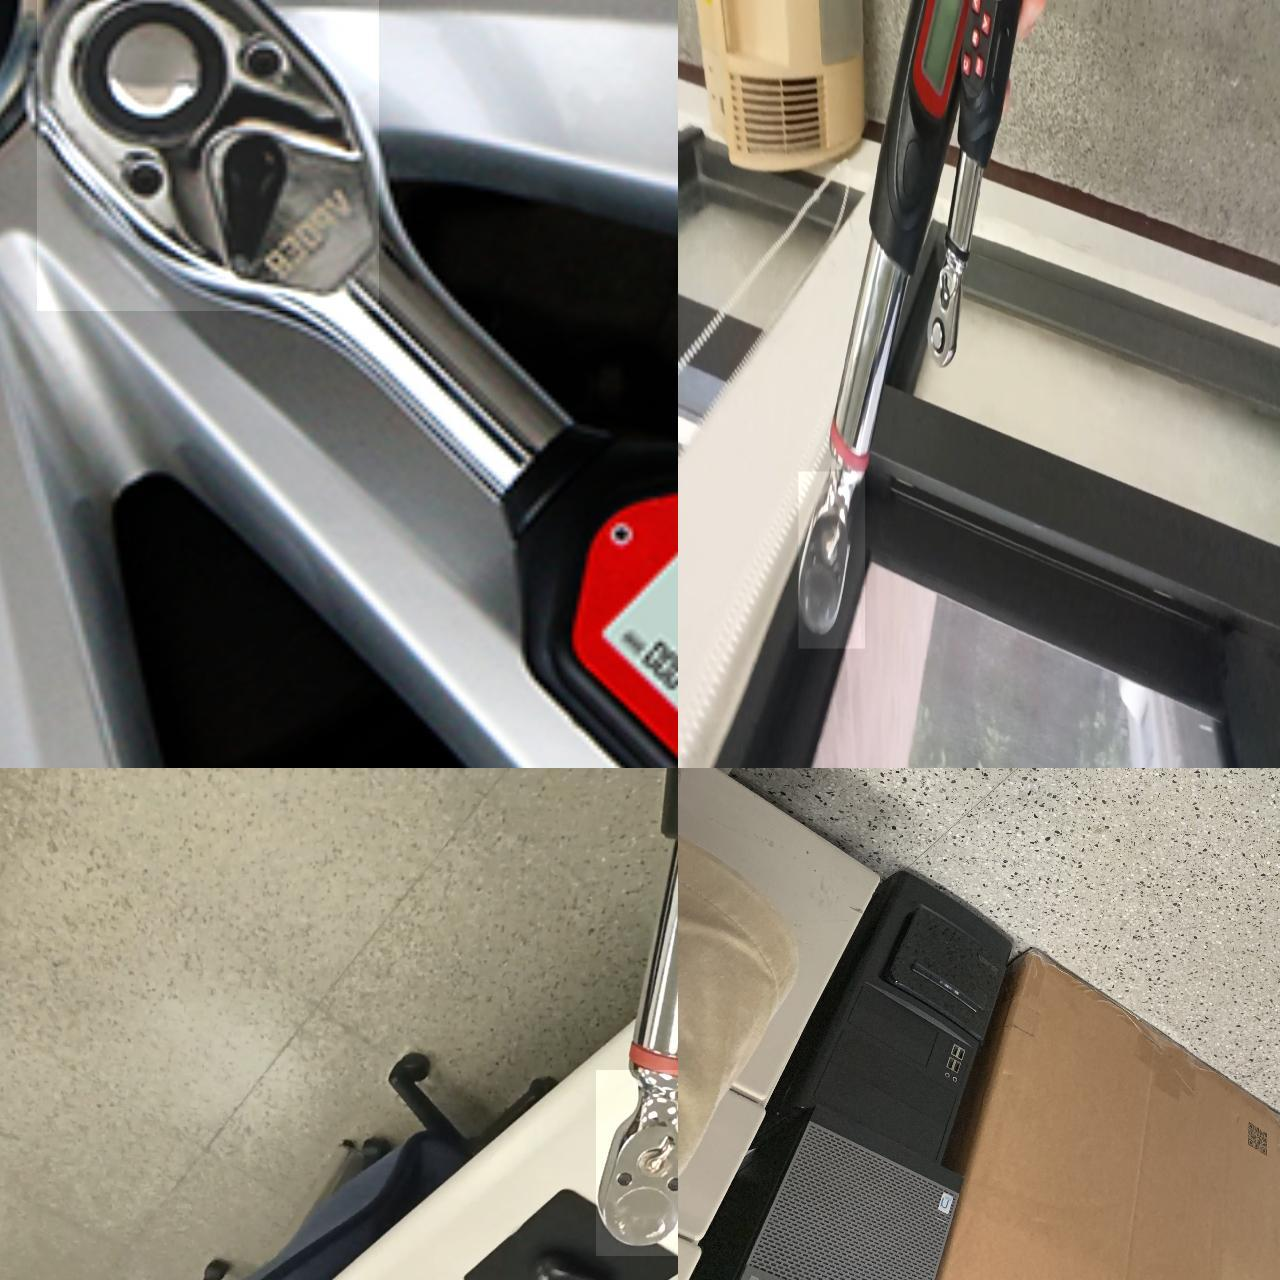Tool: (37, 0, 379, 311), (596, 1070, 678, 1256), (799, 472, 866, 648), (928, 249, 960, 370)
